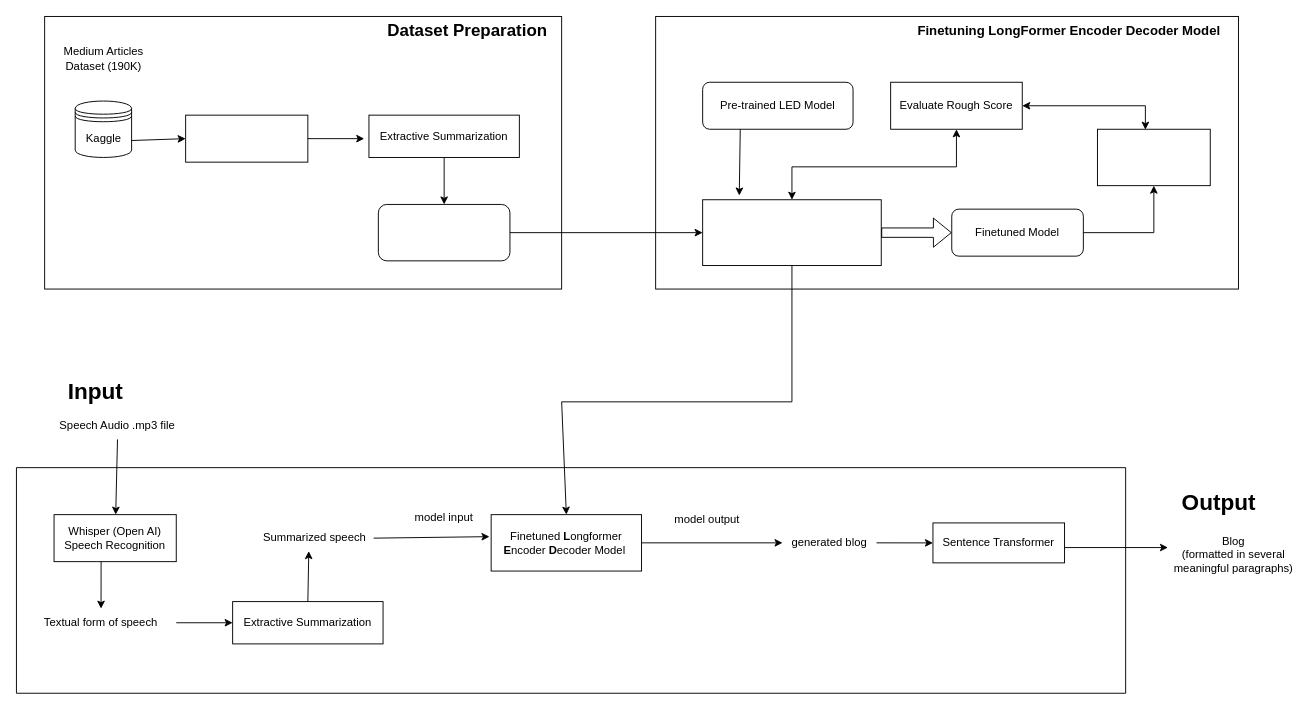
Image size: 1316x710. Some labels were removed from this diagram. The shapes that lost their labels are listed below. From the top down, each one's box as (x1, y1, x2, y2) in pixels, then its label:
(185, 114, 308, 162): Extract articles in English language
(1097, 128, 1210, 186): Testing With Unseen Article summaries
(377, 204, 510, 261): Articles with summaries - Prepared Dataset
(702, 199, 881, 266): Finetune by the mapping of summaries to articles content
(16, 467, 1126, 693): Speech To Blog
